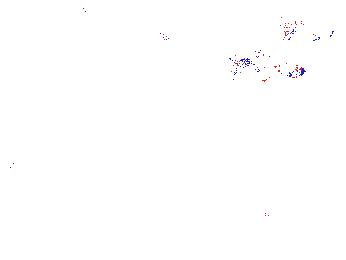glassfish: (79, 5, 208, 74)
redtail glassfish: (233, 53, 307, 78), (275, 18, 334, 43)
